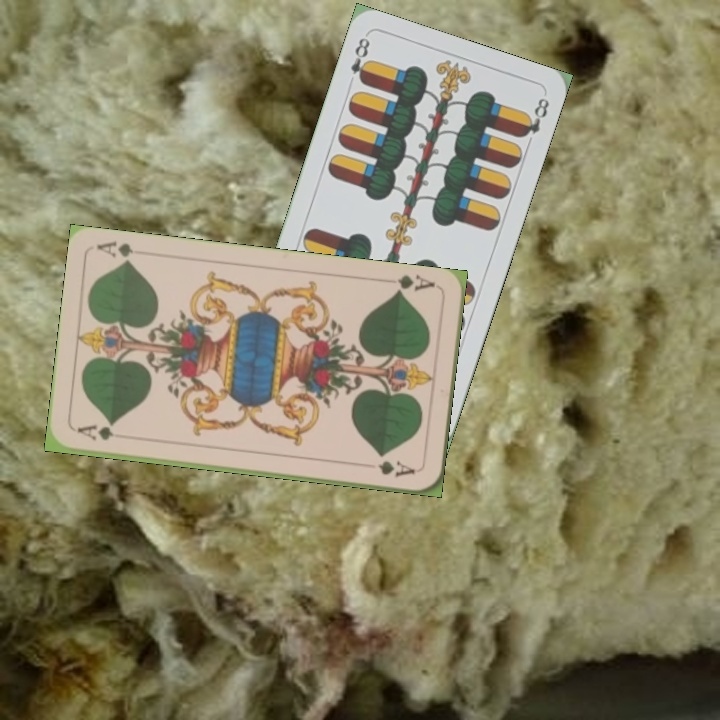E8: (346, 33, 373, 87)
GA: (390, 271, 438, 297), (73, 421, 116, 443)
